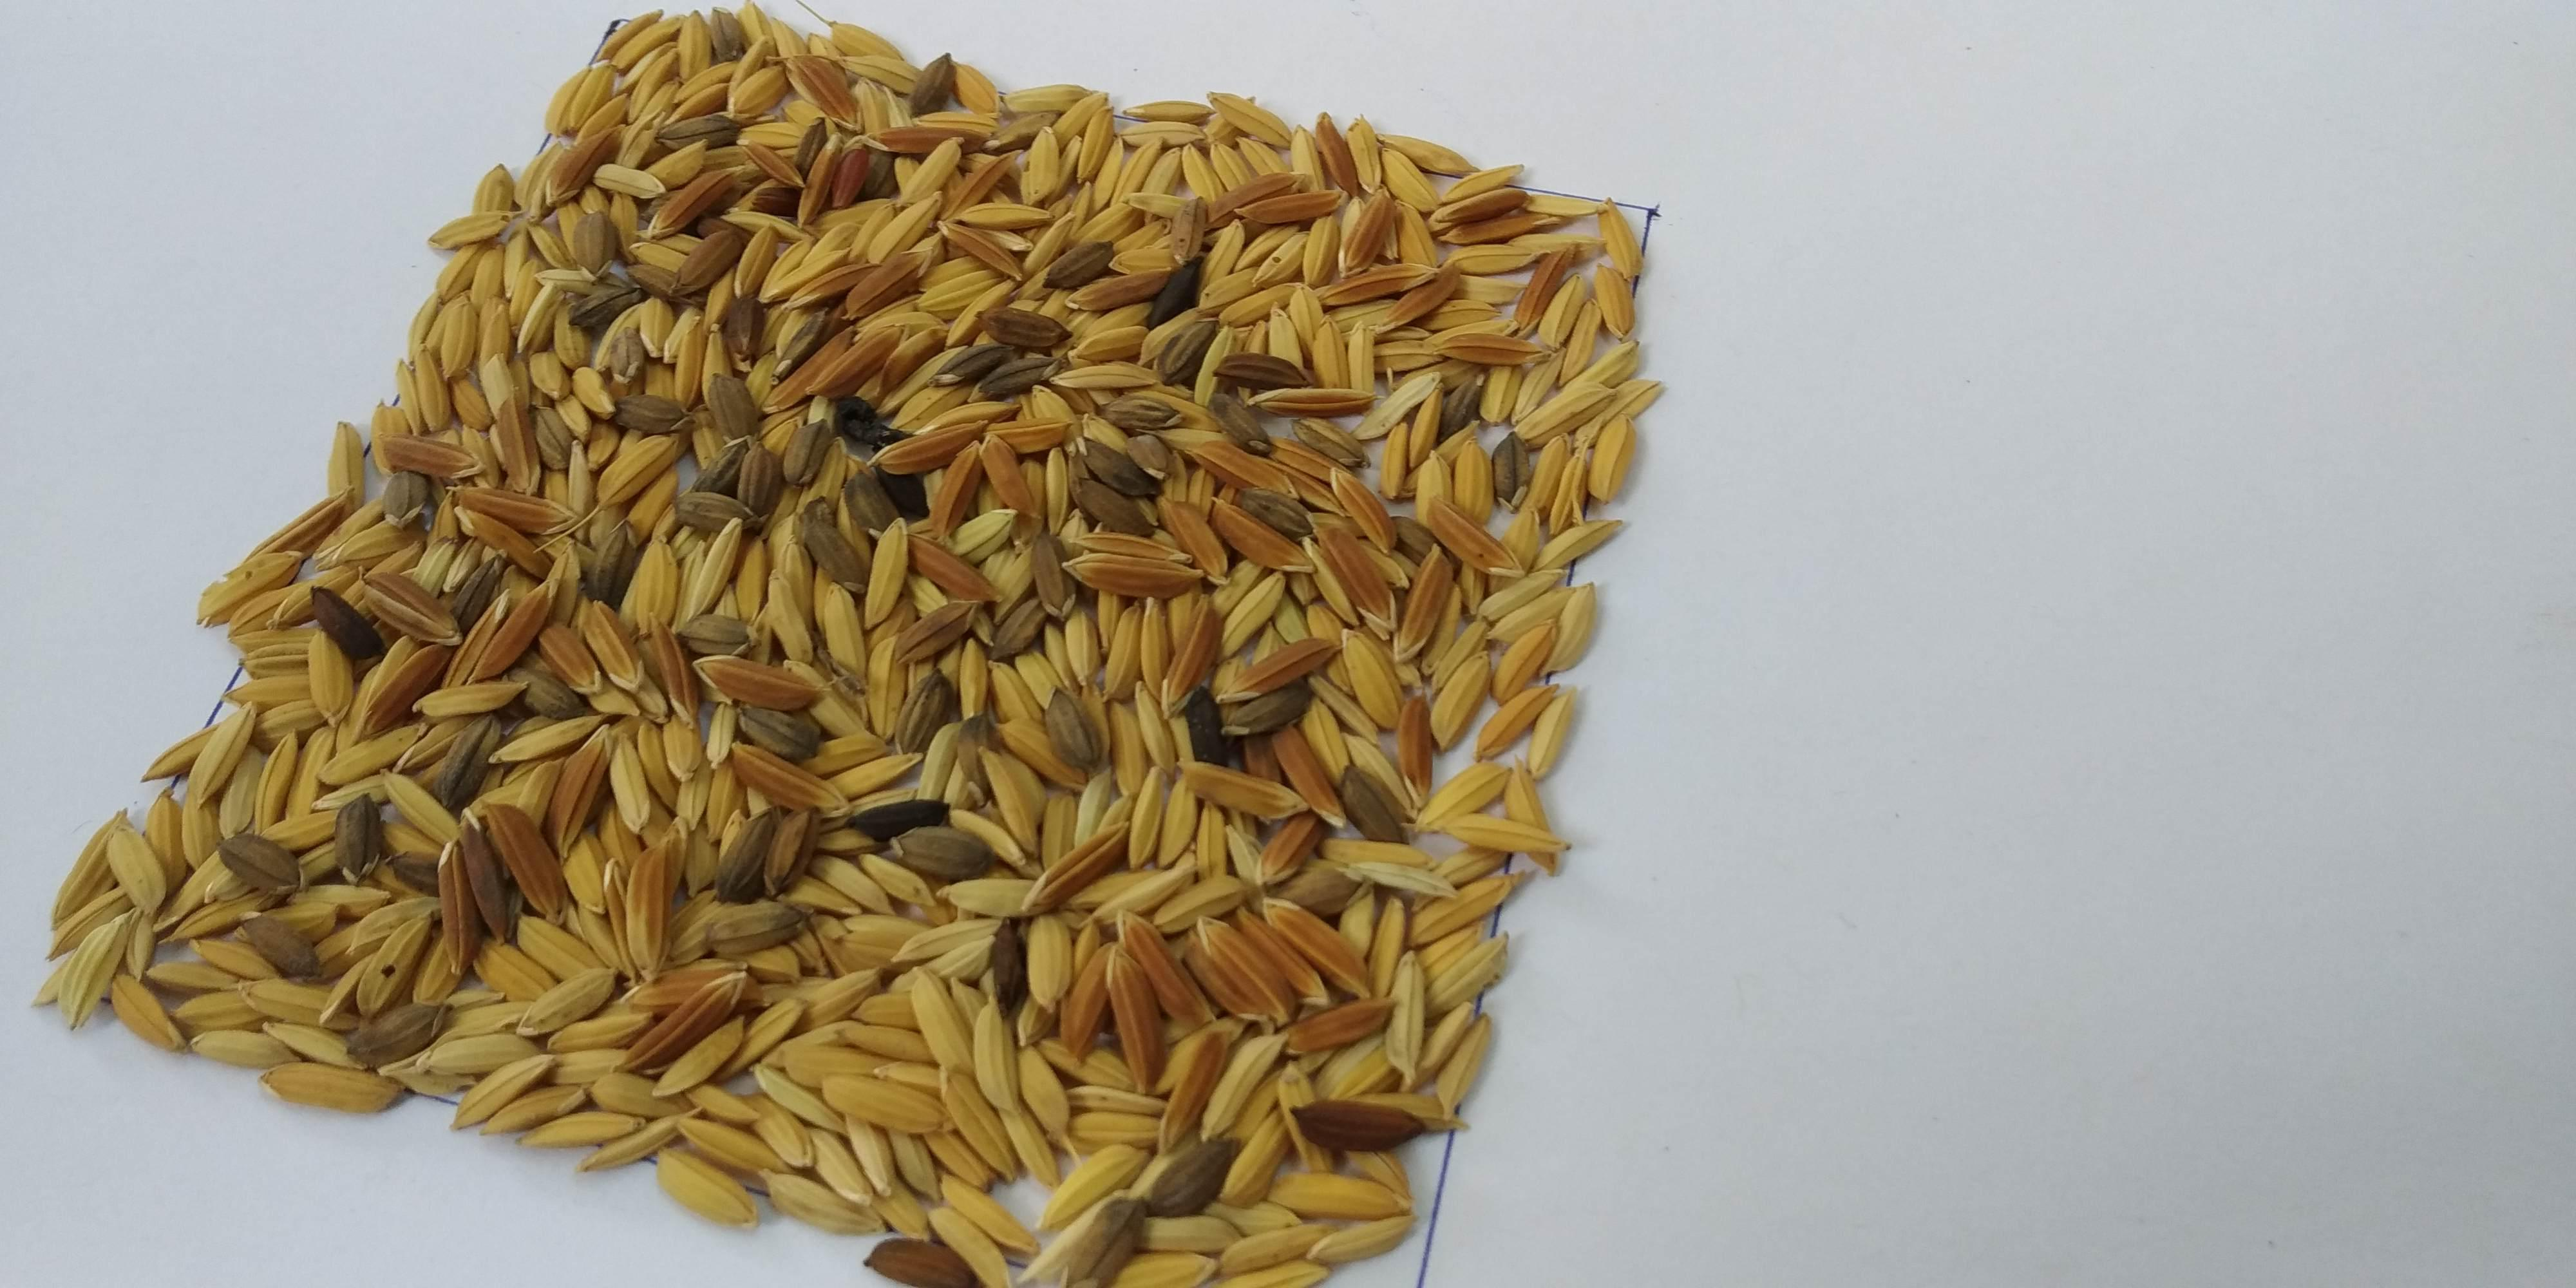impure: (491, 156, 1418, 1104)
